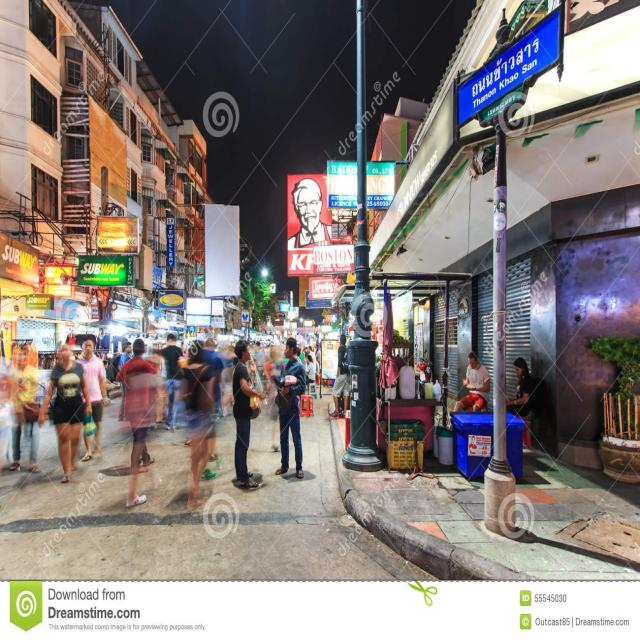body: (115, 340, 161, 507), (46, 340, 88, 483), (181, 340, 216, 510), (230, 336, 268, 491), (71, 334, 112, 464), (273, 336, 307, 480), (7, 348, 42, 475), (286, 176, 332, 251), (269, 344, 300, 454), (152, 331, 186, 431), (200, 338, 222, 463), (452, 351, 491, 413), (328, 334, 351, 421), (147, 342, 170, 426), (0, 369, 16, 471), (506, 357, 532, 418), (116, 340, 133, 423), (220, 345, 237, 415), (252, 340, 268, 378), (305, 355, 317, 389), (305, 354, 316, 386), (306, 343, 318, 372), (102, 359, 112, 391), (315, 343, 322, 374), (314, 327, 321, 342), (306, 346, 310, 354)
